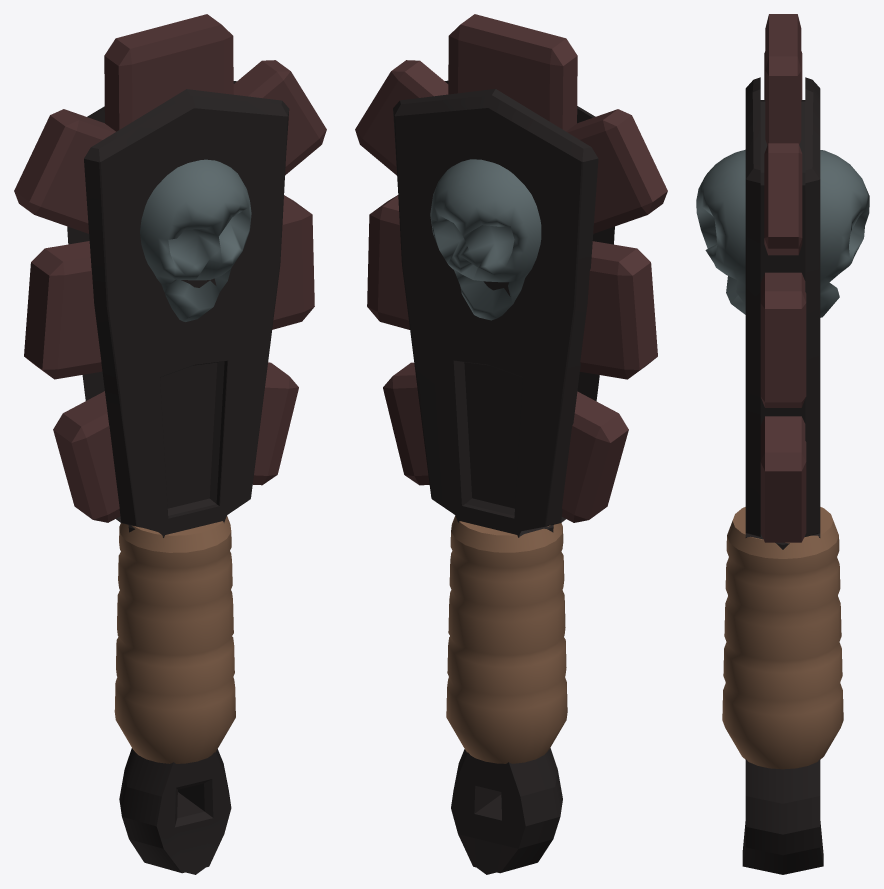
3 views of the same model, side by side, from view 1: azimuth 30°, elevation 25°; view 2: azimuth 150°, elevation 25°; view 3: azimuth 270°, elevation 25° (orthographic).
Parts seen in each view (by area): view 1: polySurface3, group2, pCylinder1, polySurface1; view 2: polySurface3, group2, pCylinder1, polySurface2; view 3: pCylinder1, polySurface3, group2, polySurface1, polySurface2.
Part boxes in pixels (left/top/right/bottom): polySurface3: left=67, top=81, right=289, bottom=874; group2: left=14, top=14, right=326, bottom=522; pCylinder1: left=114, top=516, right=235, bottom=763; polySurface1: left=140, top=159, right=251, bottom=321; polySurface3: left=393, top=80, right=614, bottom=874; group2: left=355, top=14, right=667, bottom=522; pCylinder1: left=446, top=516, right=567, bottom=763; polySurface2: left=430, top=159, right=541, bottom=320; pCylinder1: left=722, top=507, right=843, bottom=769; polySurface3: left=742, top=77, right=823, bottom=874; group2: left=760, top=14, right=806, bottom=542; polySurface1: left=696, top=149, right=745, bottom=314; polySurface2: left=820, top=150, right=869, bottom=317.
Size of the model in its own units: 0.3589 by 0.9654 by 0.1817.
